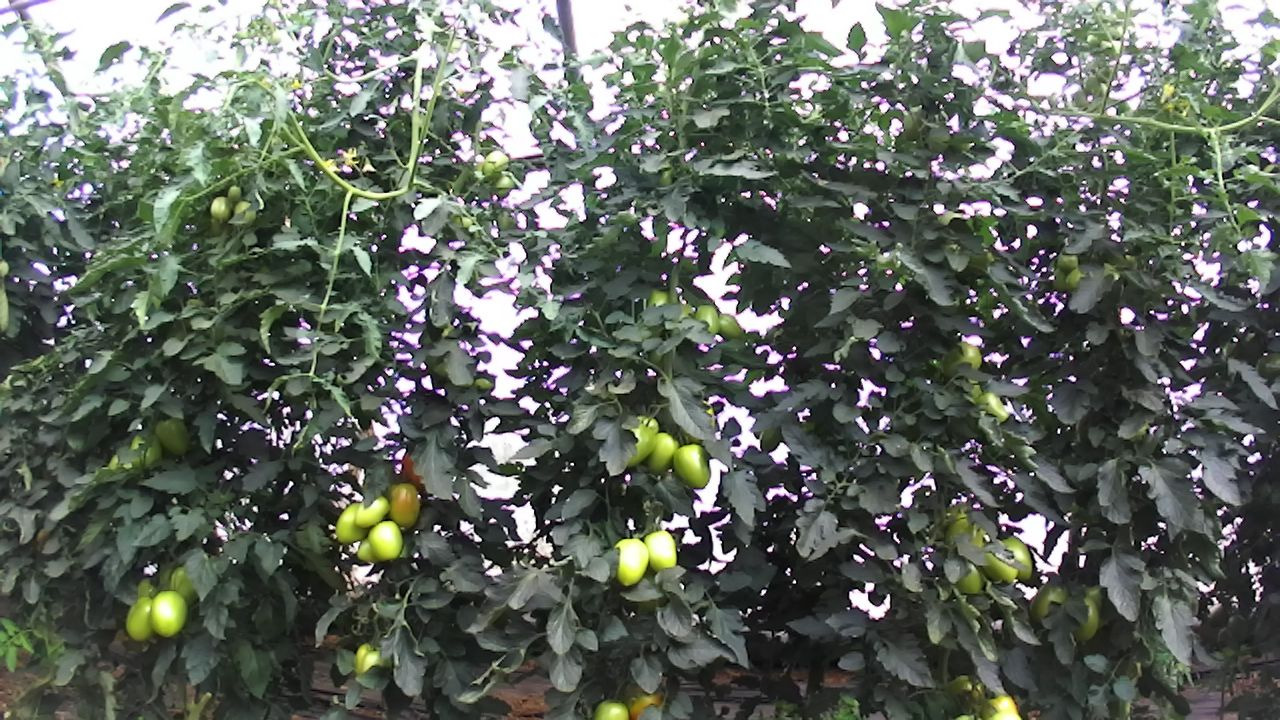tomato: (147, 587, 191, 639), (996, 532, 1039, 582), (623, 416, 661, 472), (670, 442, 712, 492), (612, 536, 652, 587), (384, 480, 423, 531), (642, 428, 680, 480), (332, 498, 368, 548), (366, 516, 404, 563), (153, 414, 191, 458), (124, 593, 155, 644), (643, 528, 677, 573), (353, 492, 391, 529), (693, 301, 725, 339), (588, 693, 633, 720), (208, 192, 234, 226), (222, 181, 244, 205)
